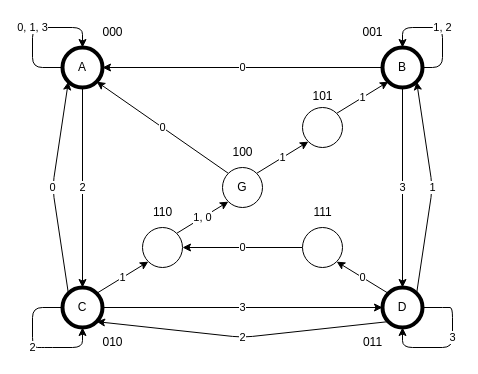
Image size: 478x374. Some labels were removed from this diagram. The centre of each missing label's shape, as x and y in pixels:
Gb: (322,127)
Gc: (162,247)
Gd: (322,247)
